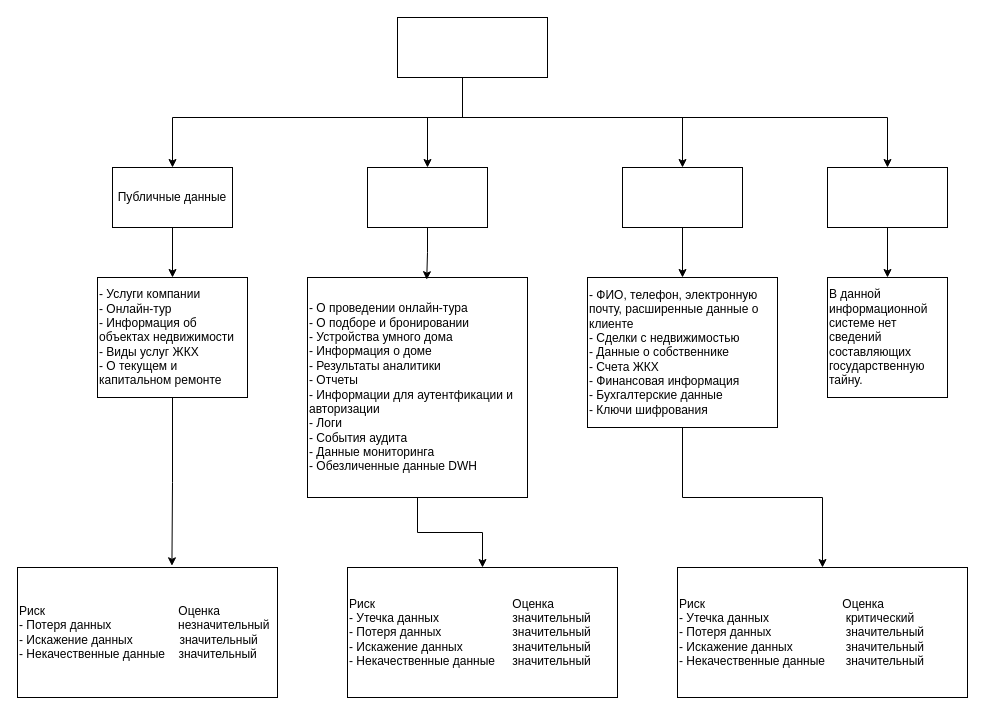
Image size: 985x715. Some labels were removed from this diagram. The box of each missing label's shape, as (x1, y1, x2, y2) in pixels:
Безопасность данных: (396, 16, 548, 78)
Внутренние данные: (366, 166, 488, 228)
Конфиденциальные данные: (622, 166, 742, 228)
Секретные данные: (826, 166, 948, 228)
